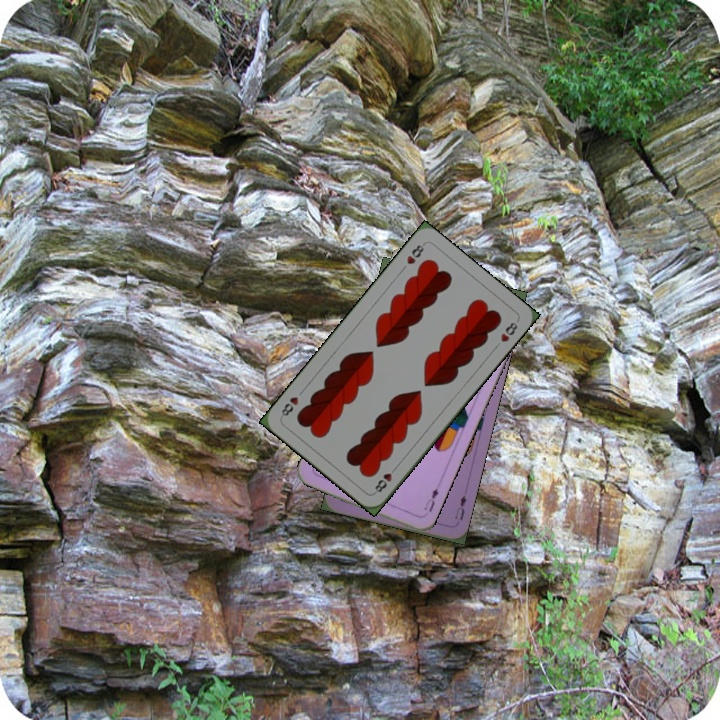EU: (420, 484, 441, 514), (451, 491, 469, 523)
H8: (370, 461, 400, 496), (403, 239, 427, 267)
